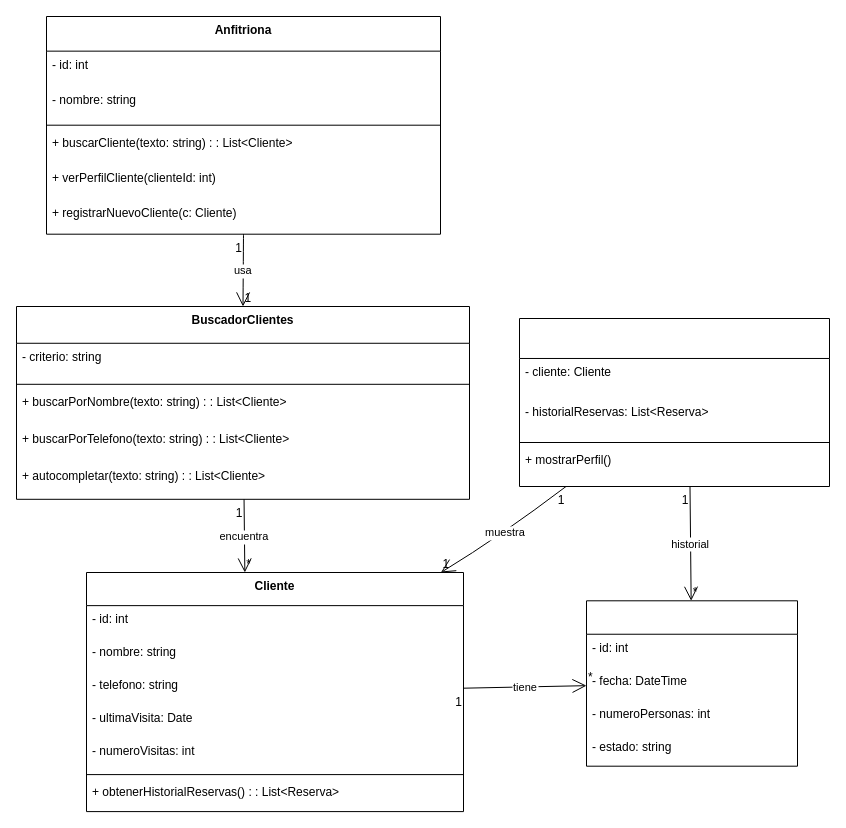
Some shapes in this 846 by 828 pixel diagram are drawn without their labels. Each missing label, with the box of its shape:
PerfilCliente: (518, 318, 830, 486)
Reserva: (586, 600, 798, 766)
